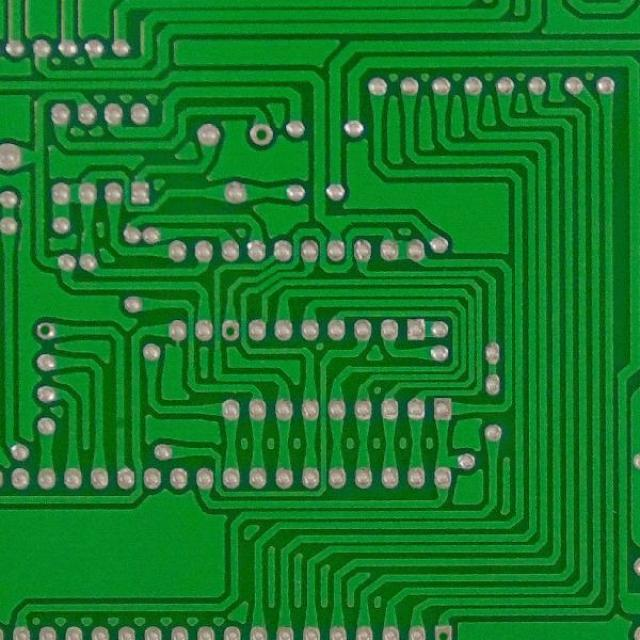missing_hole: (248, 122, 278, 148), (33, 320, 57, 341), (221, 319, 241, 342), (433, 624, 457, 639)
